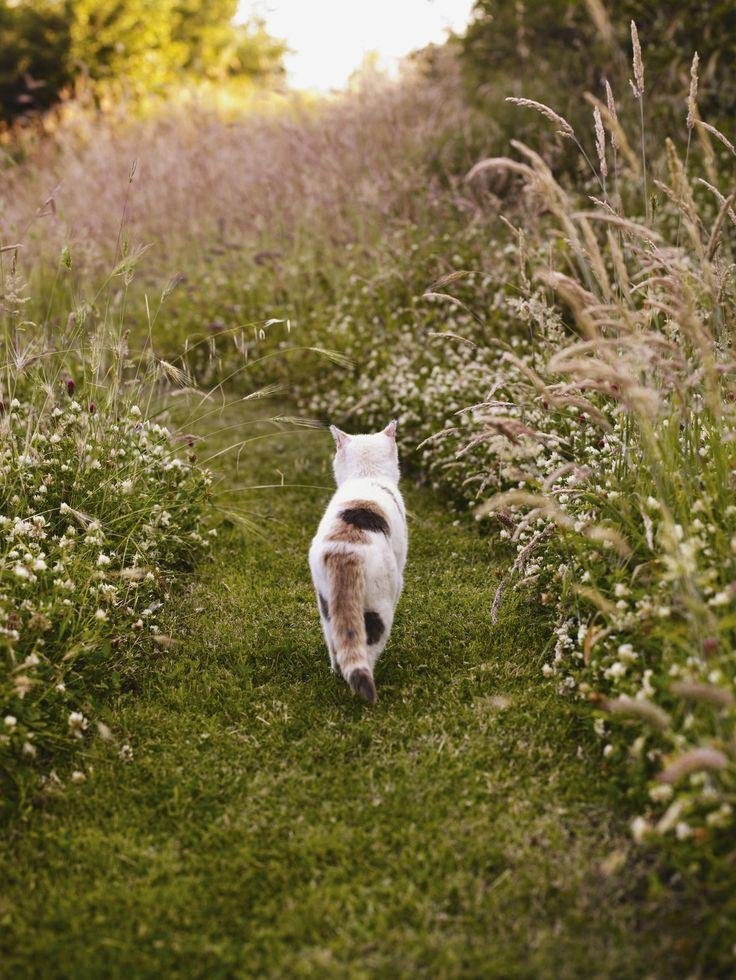kedo: (310, 419, 410, 704)
